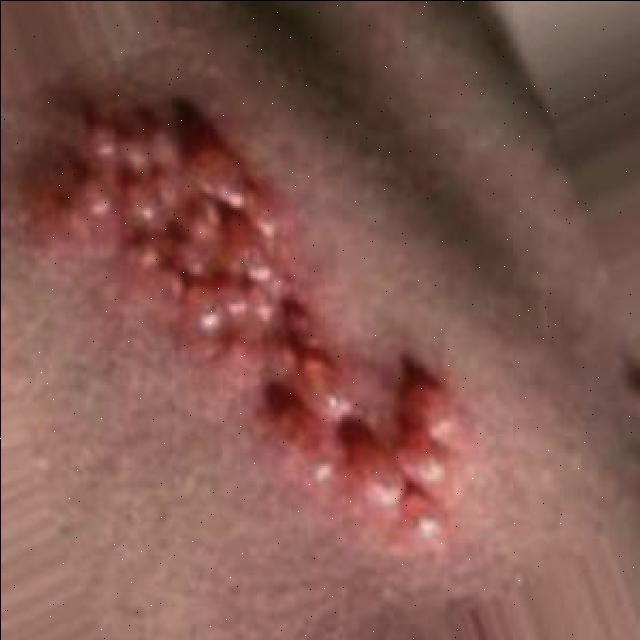Shingles: (58, 95, 469, 548)
